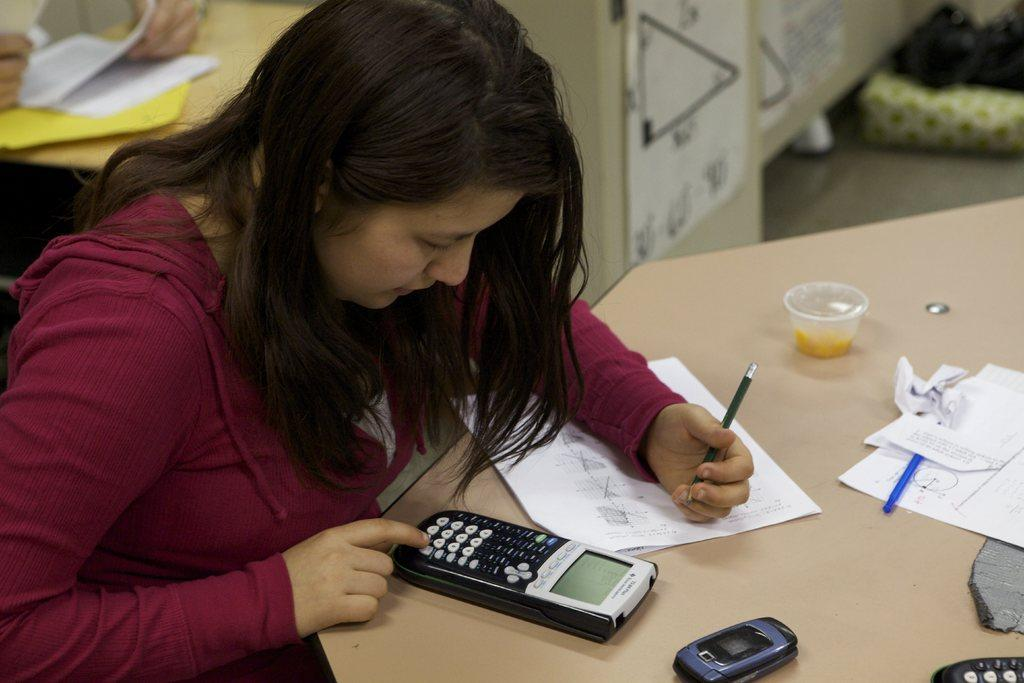Book: (483, 354, 823, 557)
Computer-keyboard: (931, 654, 1023, 682)
Computer-mouse: (671, 614, 799, 681)
